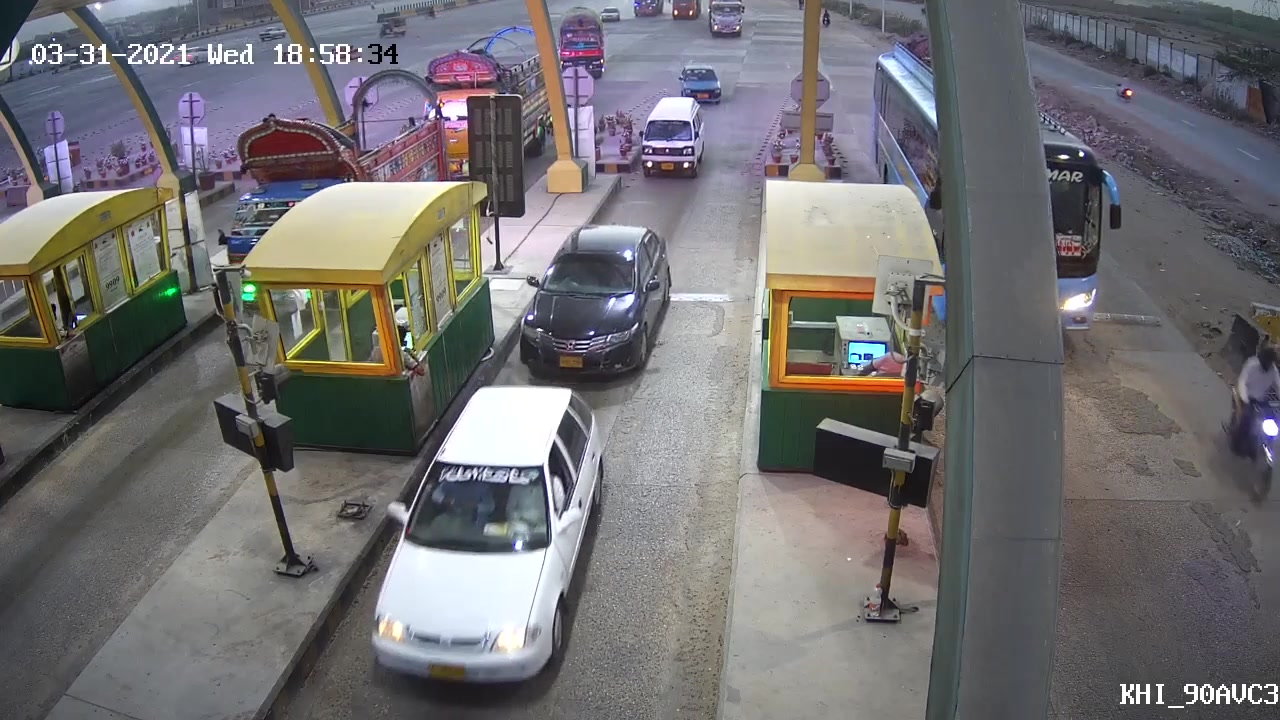F1: (359, 386, 611, 693), (518, 218, 677, 381)
